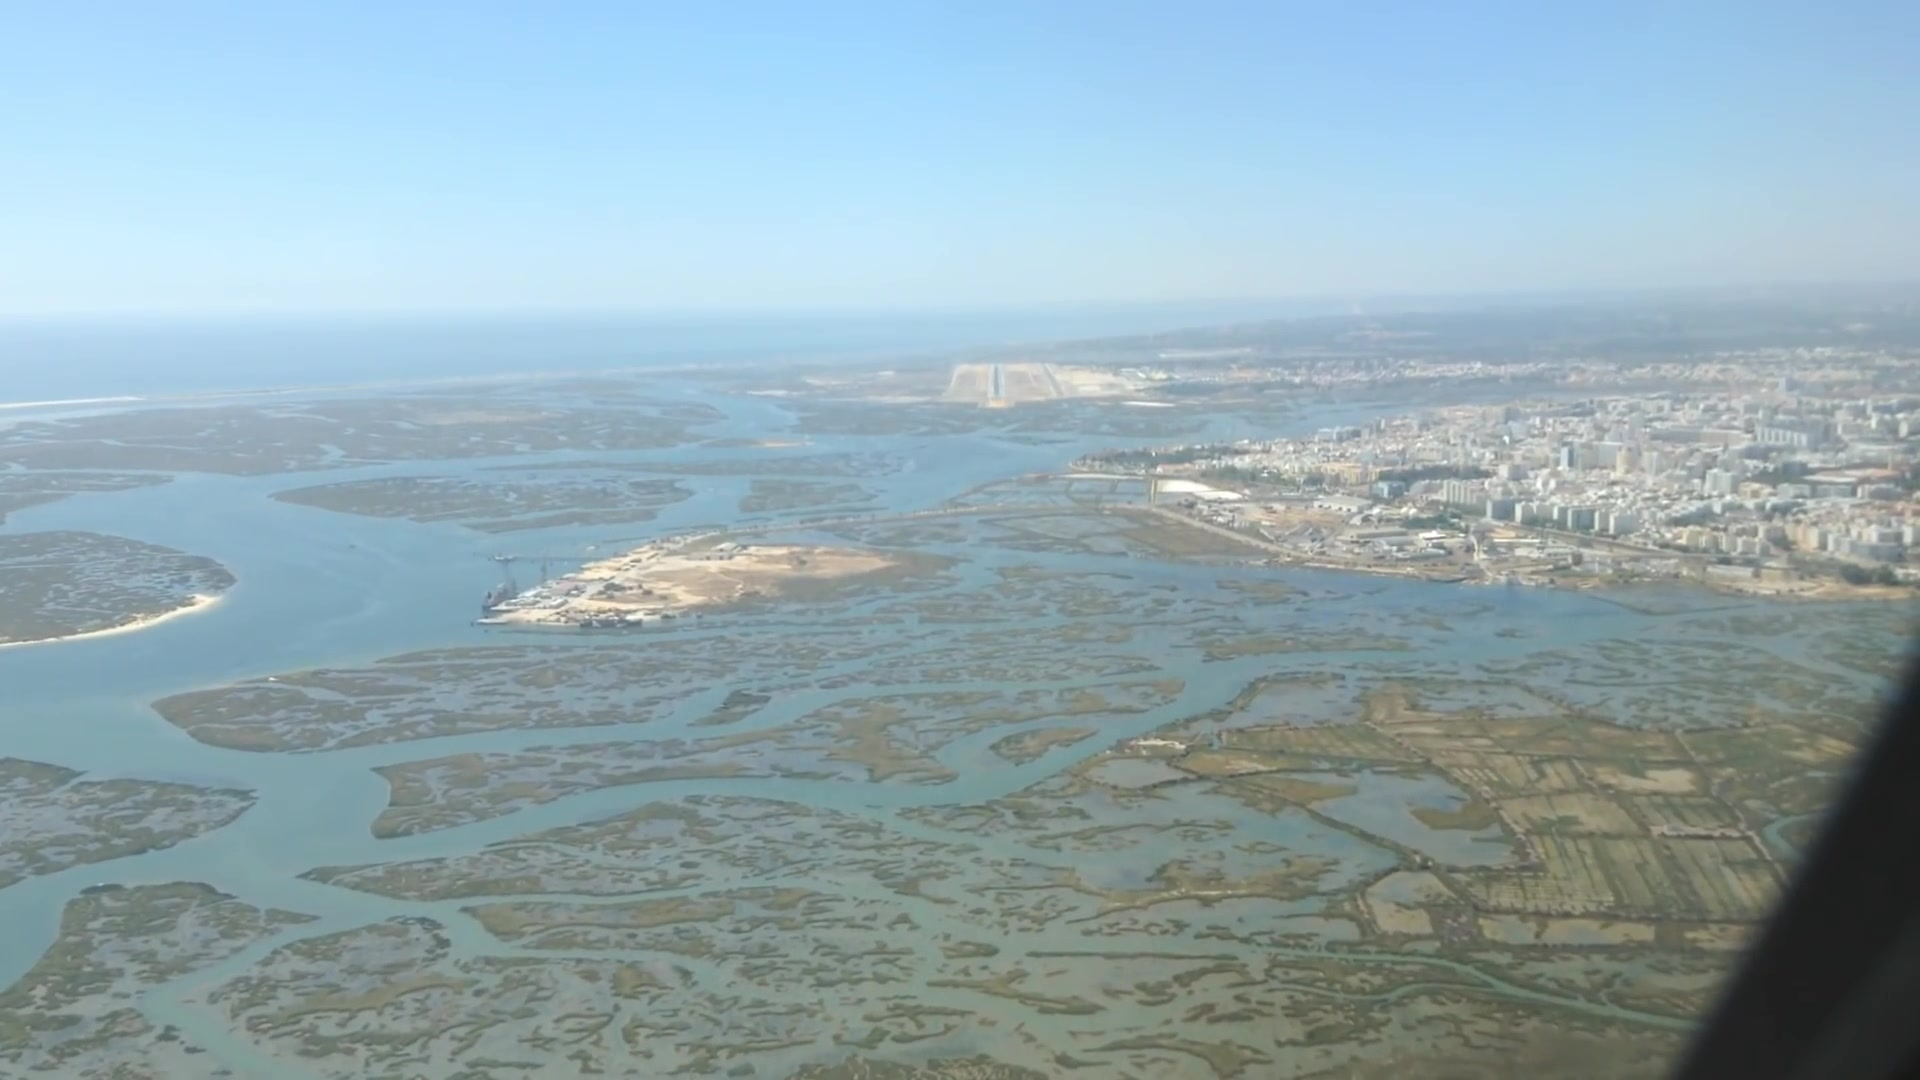runway: (1043, 363, 1072, 398), (986, 364, 1007, 401)
